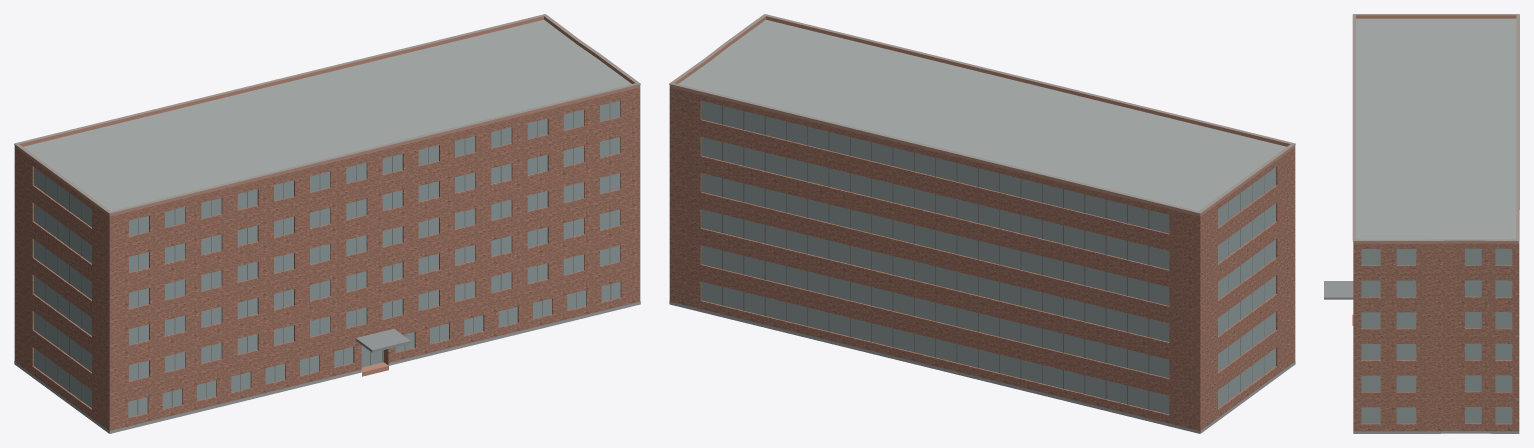
The picture shows the model from 3 angles, left to right: view 1: azimuth 30°, elevation 25°; view 2: azimuth 150°, elevation 25°; view 3: azimuth 270°, elevation 25°; orthographic projection. The views are drawn at different scales.
Visible parts, largest first — view 1: b743648654__wall, b743648654__roof, b743648654__glass, b743648654__parapet, b743648654__trim, b743648654__frame, b743648654__base, b743648654__canopy; view 2: b743648654__wall, b743648654__glass, b743648654__roof, b743648654__parapet, b743648654__trim, b743648654__frame, b743648654__base; view 3: b743648654__roof, b743648654__wall, b743648654__glass, b743648654__trim, b743648654__parapet, b743648654__canopy, b743648654__base.
Boxes of the visible parts, x1,y1,x2,y2 form: b743648654__wall: (14,87,640,433); b743648654__roof: (23,20,631,210); b743648654__glass: (34,101,620,417); b743648654__parapet: (14,16,640,216); b743648654__trim: (14,14,640,214); b743648654__frame: (45,103,611,415); b743648654__base: (14,301,640,433); b743648654__canopy: (355,329,410,352); b743648654__wall: (669,87,1295,433); b743648654__glass: (701,100,1275,414); b743648654__roof: (678,19,1286,210); b743648654__parapet: (669,16,1295,216); b743648654__trim: (669,14,1295,214); b743648654__frame: (722,106,1264,409); b743648654__base: (669,301,1295,433); b743648654__roof: (1356,18,1516,433); b743648654__wall: (1353,243,1519,431); b743648654__glass: (1361,248,1512,423); b743648654__trim: (1352,14,1519,241); b743648654__parapet: (1353,15,1519,243); b743648654__canopy: (1324,281,1353,299); b743648654__base: (1353,431,1519,433).
Size of the model in its own units: 55.36 by 22.35 by 20.19.
10 materials, 1 textured.
